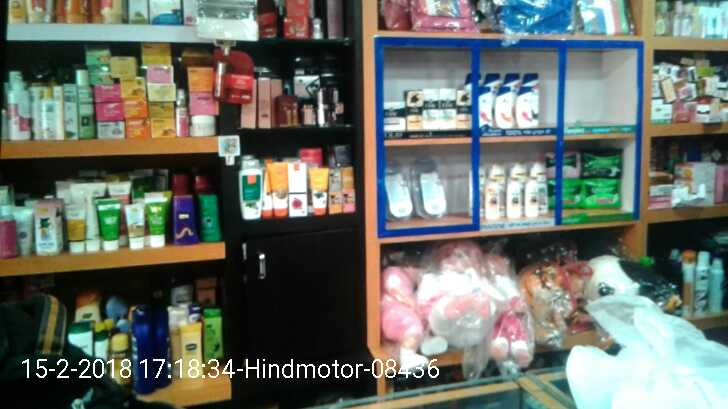venus: (413, 157, 445, 220), (388, 158, 413, 220)
